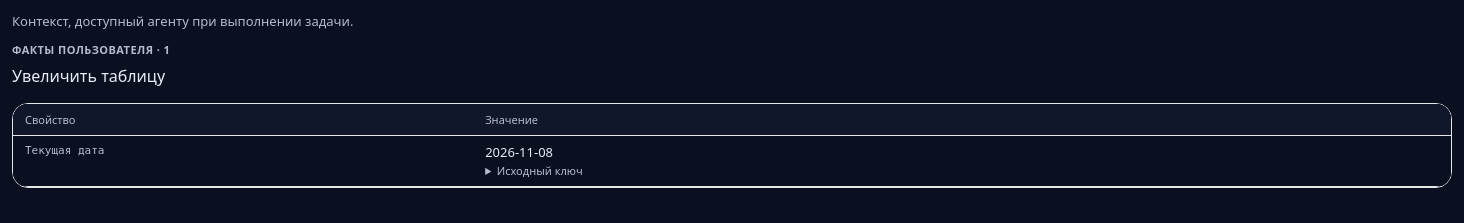
Scenario: MemoryContextViewer › uses a friendly label for the known current date fact and preserves its source key in details
This screenshot has width=1464, height=223.
Check: the text "Текущая дата" is shown, box [13, 136, 473, 186]
Click the heading "Исходный ключ".
click(540, 171)  # box [497, 163, 583, 178]
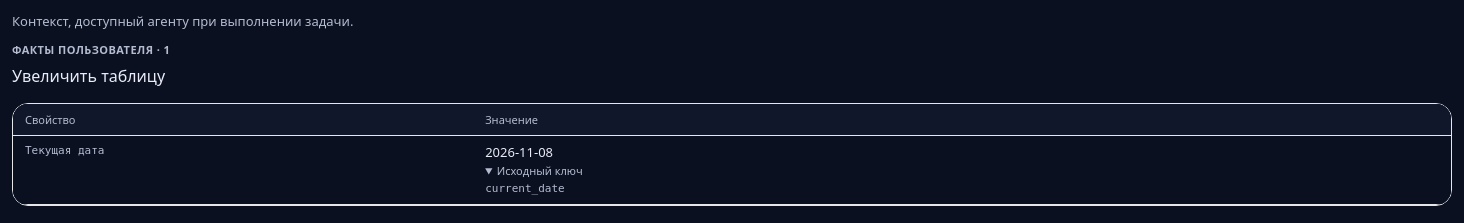
Check: the text "current_date" is shown, box [485, 182, 565, 196]
